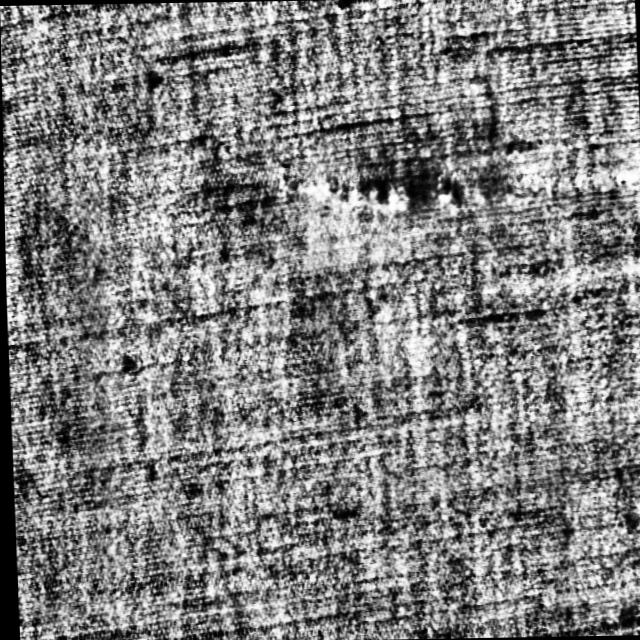Stitch: (303, 164, 492, 220)
